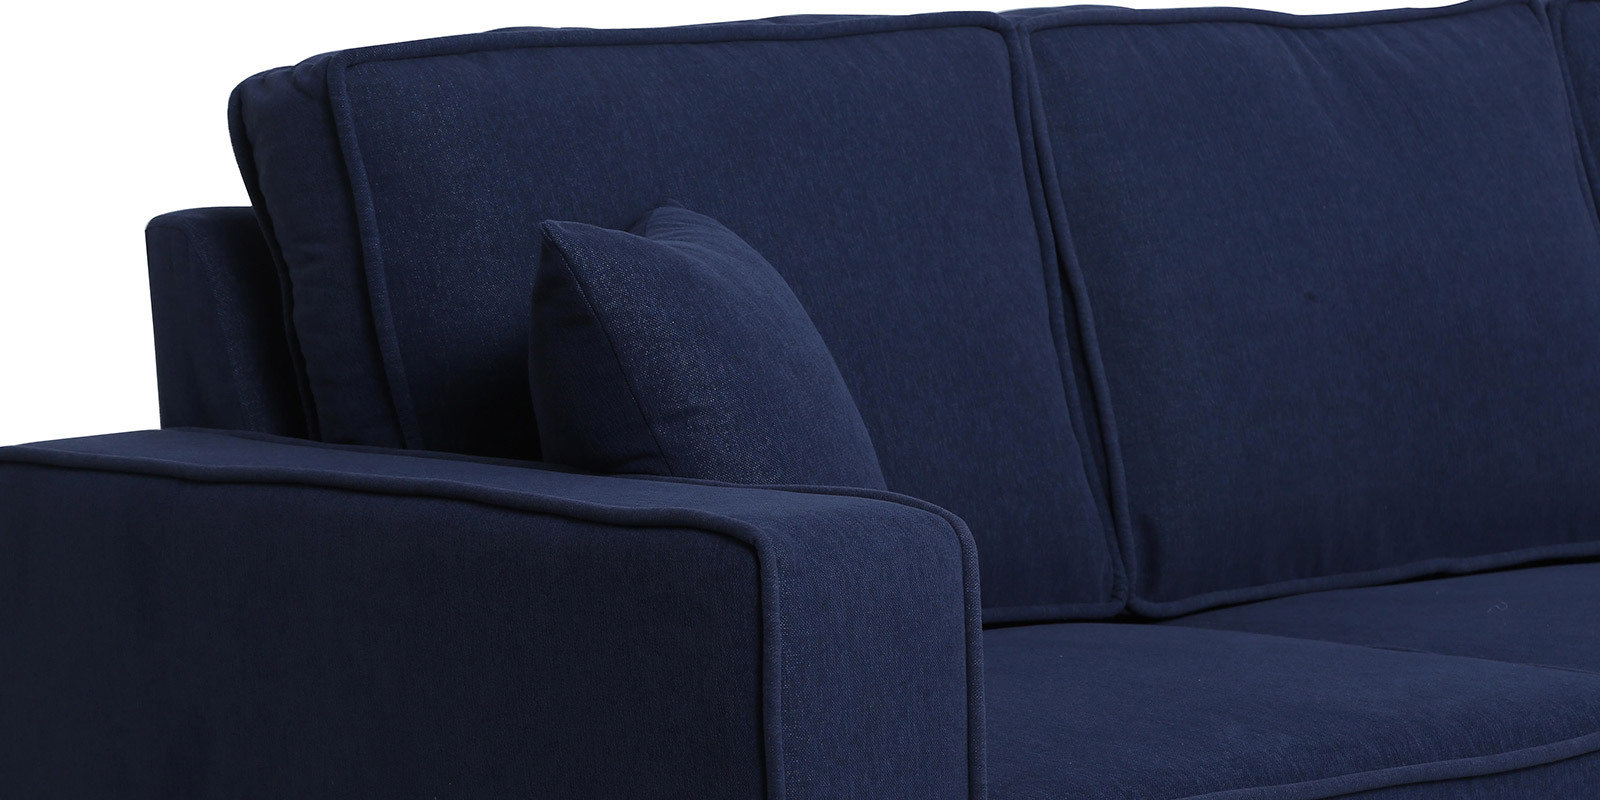Hugo Three Seater Sofa in Navy Blue Colour by CasaCraft: (8, 8, 1600, 782)
